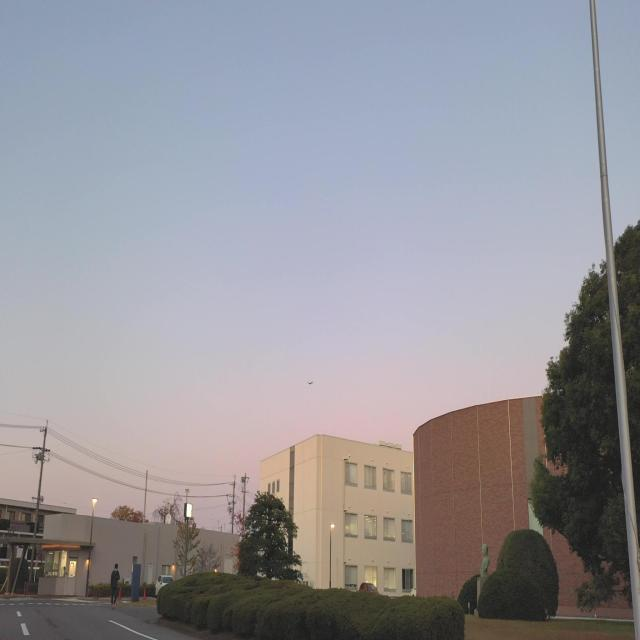Birds: (306, 379, 314, 387)
